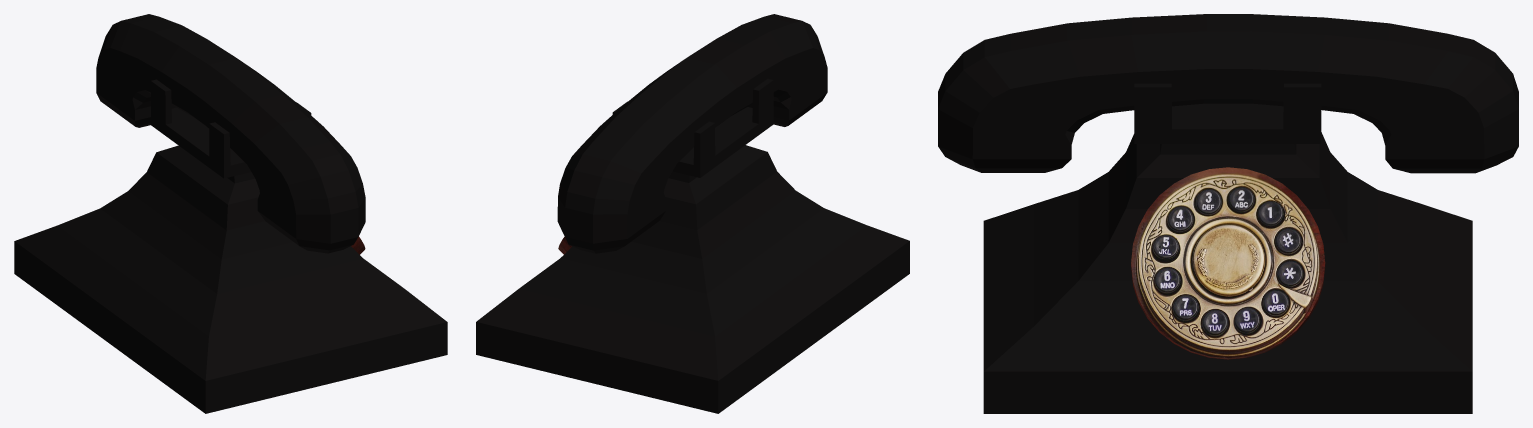
Rendered from Rotary Phone.fbx.
3 renders of one model, left to right at view 1: azimuth 30°, elevation 25°; view 2: azimuth 150°, elevation 25°; view 3: azimuth 270°, elevation 25°, orthographic. The views are drawn at different scales.
Parts seen in each view (by area): view 1: phoine base, pick up phone; view 2: phoine base, pick up phone; view 3: phoine base, pick up phone, dial.
Part boxes in pixels (bbox=[...]): phoine base: bbox=[14, 79, 447, 413]; pick up phone: bbox=[96, 14, 365, 253]; phoine base: bbox=[476, 79, 909, 413]; pick up phone: bbox=[557, 14, 827, 253]; phoine base: bbox=[983, 83, 1472, 413]; pick up phone: bbox=[938, 14, 1518, 173]; dial: bbox=[1131, 167, 1325, 359].
Size of the model in its own units: 260 by 156 by 160.
